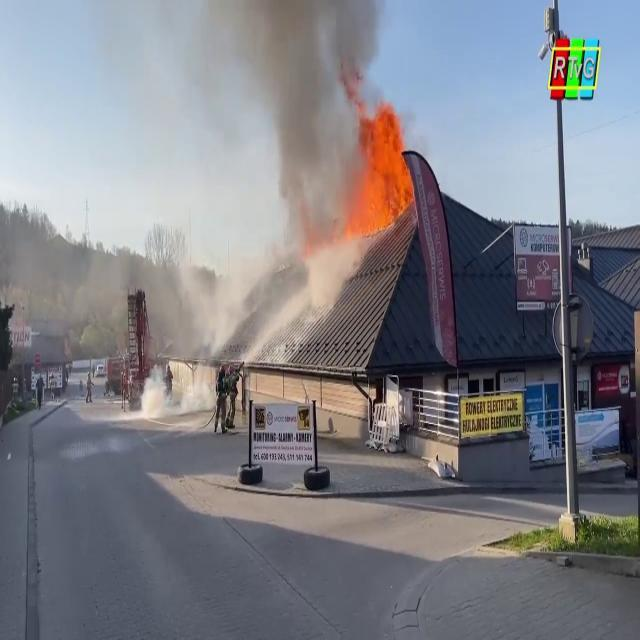Fire: (350, 94, 417, 236)
Smoke: (240, 1, 376, 246)
